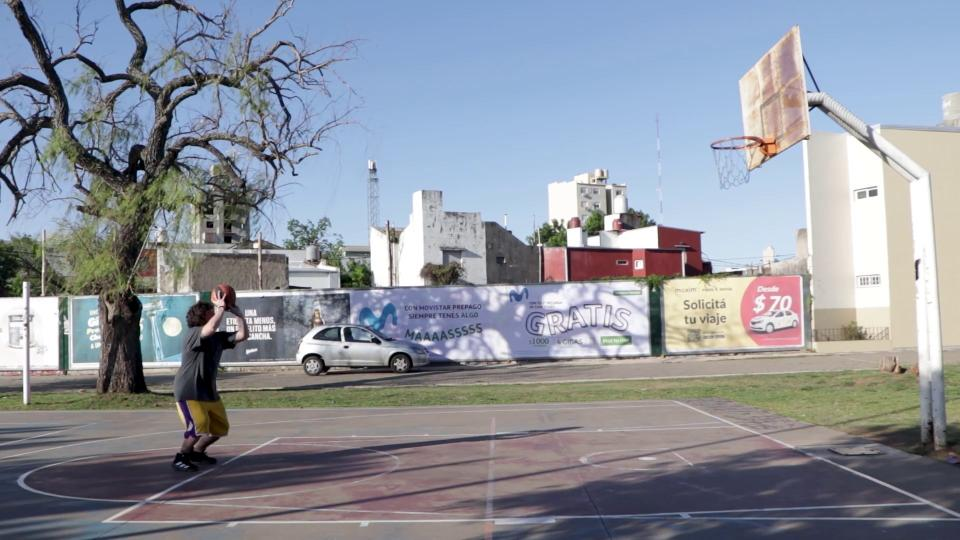hoop: (710, 135, 764, 150)
